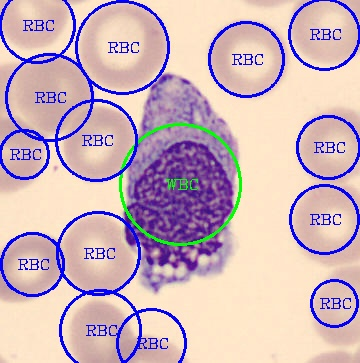RBC: (77, 0, 171, 92), (205, 16, 292, 102), (14, 51, 96, 136), (63, 211, 135, 297), (288, 181, 358, 269), (61, 104, 133, 185), (293, 101, 358, 185), (0, 230, 65, 305), (289, 0, 358, 68), (307, 261, 358, 347), (67, 297, 134, 362), (1, 115, 48, 196), (0, 0, 70, 51)
WBC: (124, 73, 243, 289)
